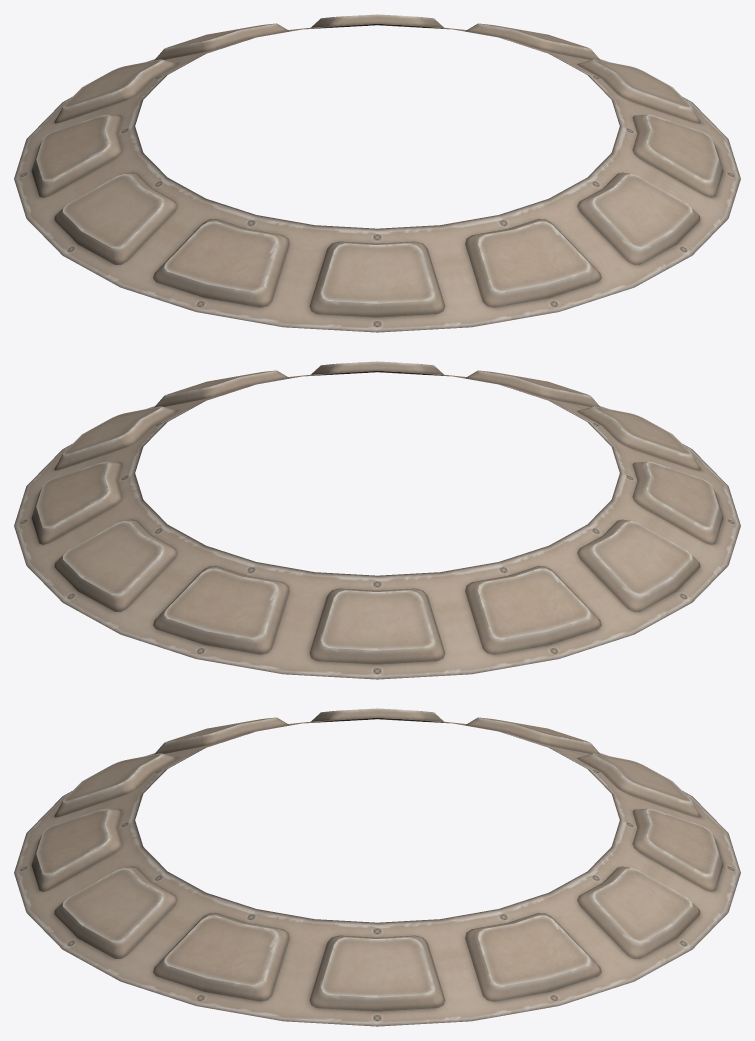
File: cygnus_adapter_s1p5_s1_1.obj
The picture shows the model from 3 angles, top to bottom: view 1: azimuth 30°, elevation 25°; view 2: azimuth 150°, elevation 25°; view 3: azimuth 270°, elevation 25°; orthographic projection.
Visible parts, largest first — view 1: mesh1; view 2: mesh1; view 3: mesh1.
Boxes of the visible parts, left/top/right/bottom form: mesh1: left=14, top=14, right=740, bottom=332; mesh1: left=14, top=361, right=740, bottom=679; mesh1: left=14, top=708, right=740, bottom=1026.
Bounding box in the file's own units: 1.88 × 0.15 × 1.88.
1 material, 1 textured.
